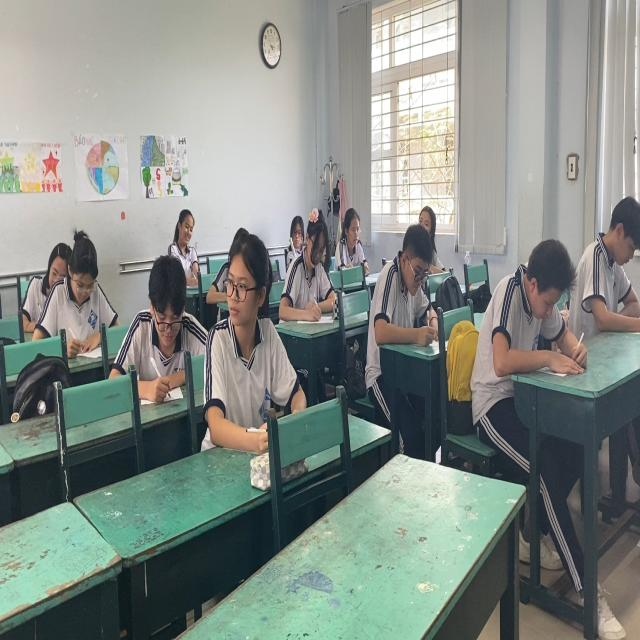cheating: (210, 224, 288, 421)
not_cheating: (121, 249, 216, 401), (474, 234, 572, 372), (574, 192, 640, 338), (31, 234, 111, 338), (278, 206, 342, 328), (374, 224, 439, 338), (337, 203, 383, 266), (166, 203, 204, 276)
